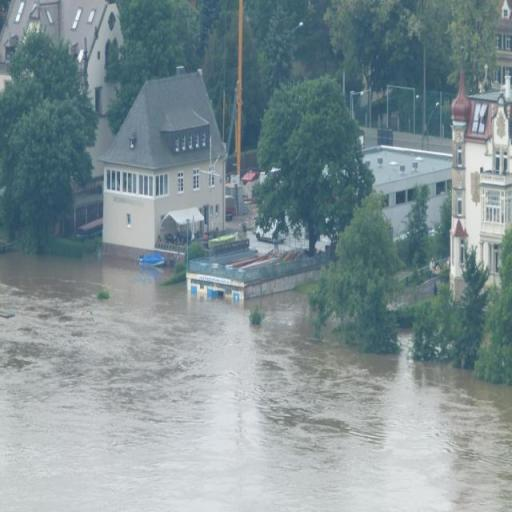flood: (0, 253, 512, 512)
house: (100, 70, 230, 244), (263, 145, 451, 244), (453, 58, 512, 282), (183, 248, 321, 304), (2, 0, 120, 50), (158, 204, 208, 250), (497, 19, 512, 57)
